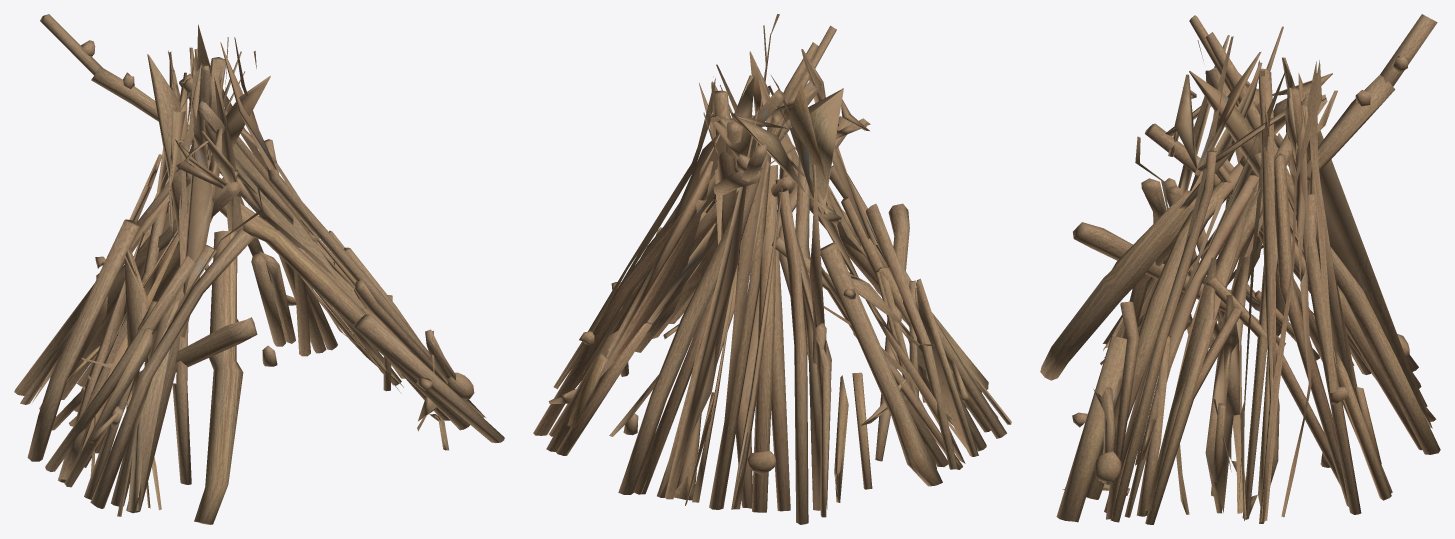
File: Stick_House.glb
3 views of the same model, side by side, from view 1: azimuth 30°, elevation 25°; view 2: azimuth 150°, elevation 25°; view 3: azimuth 270°, elevation 25° (orthographic). The views are drawn at different scales.
Bounding box in the file's own units: 2.21 × 2.2 × 1.99.
Materials: 1 (1 with a texture image).
